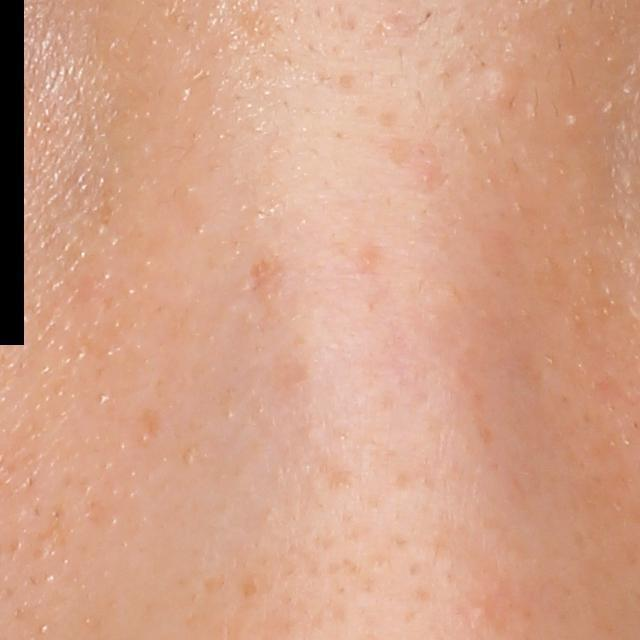comedo: (477, 62, 522, 115)
